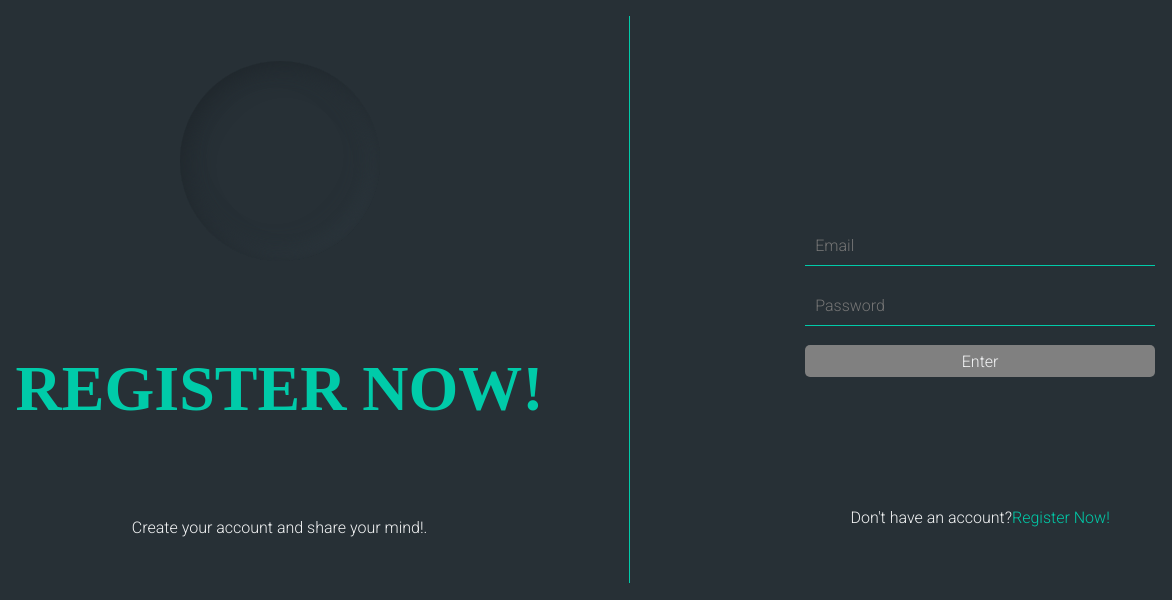
Test: <Login/> - Integration - fetch user › should try to login with incorrect values
Type "test@gmail.com" into the field with placeholder "Email" at (980, 246), box [805,226,1155,266]
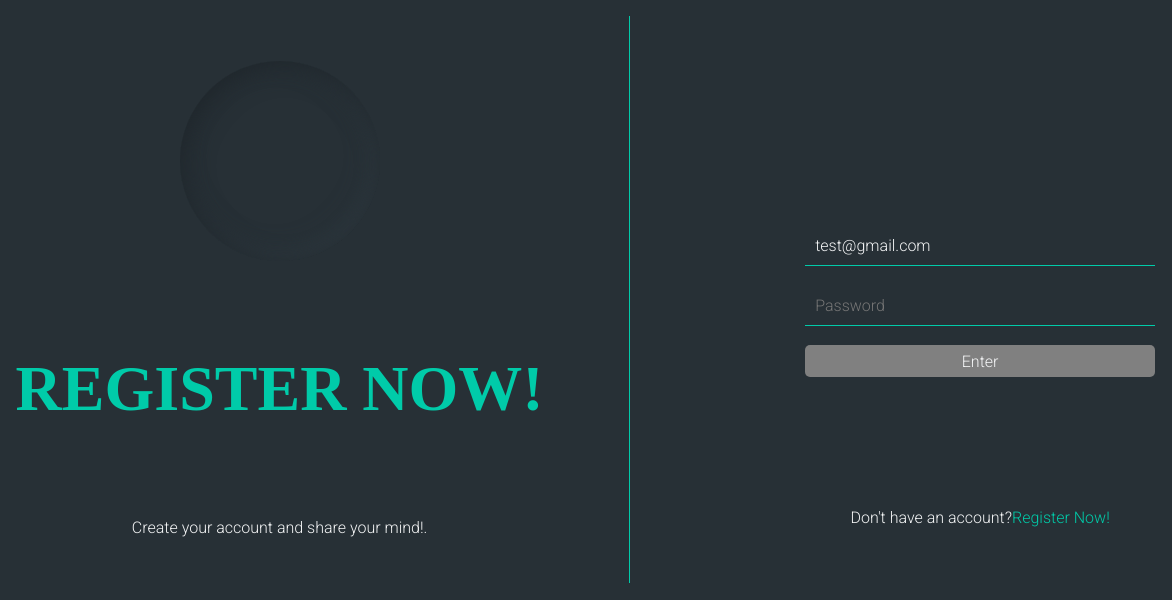
Type "test" into the password field with placeholder "Password" at (980, 306), box [805,286,1155,326]
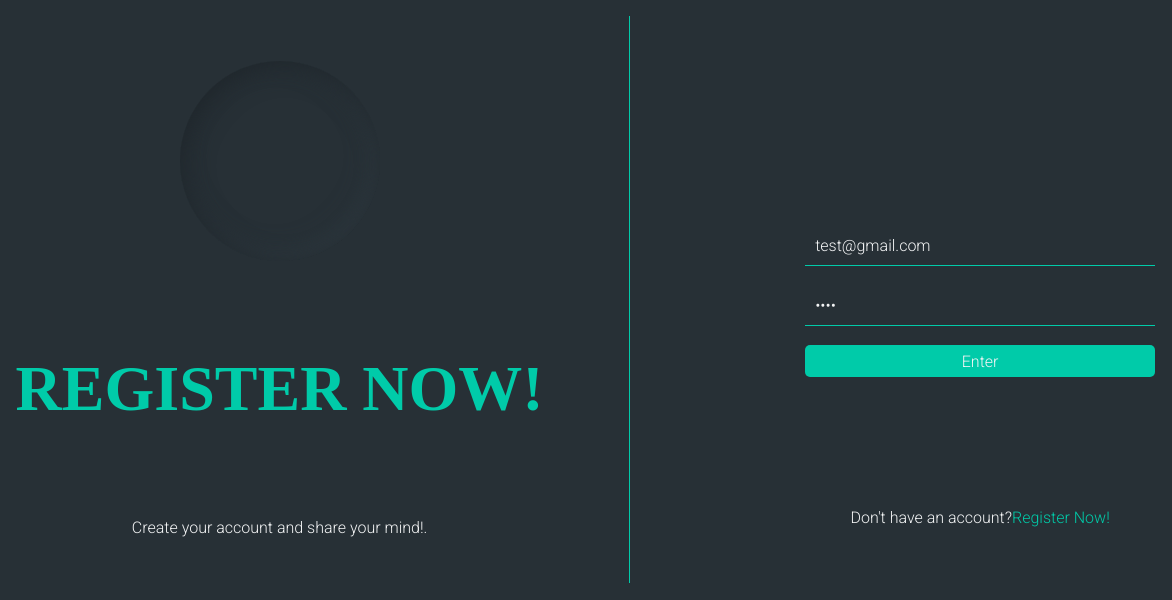
Click the button "Enter" at (980, 361), box [805,345,1155,377]
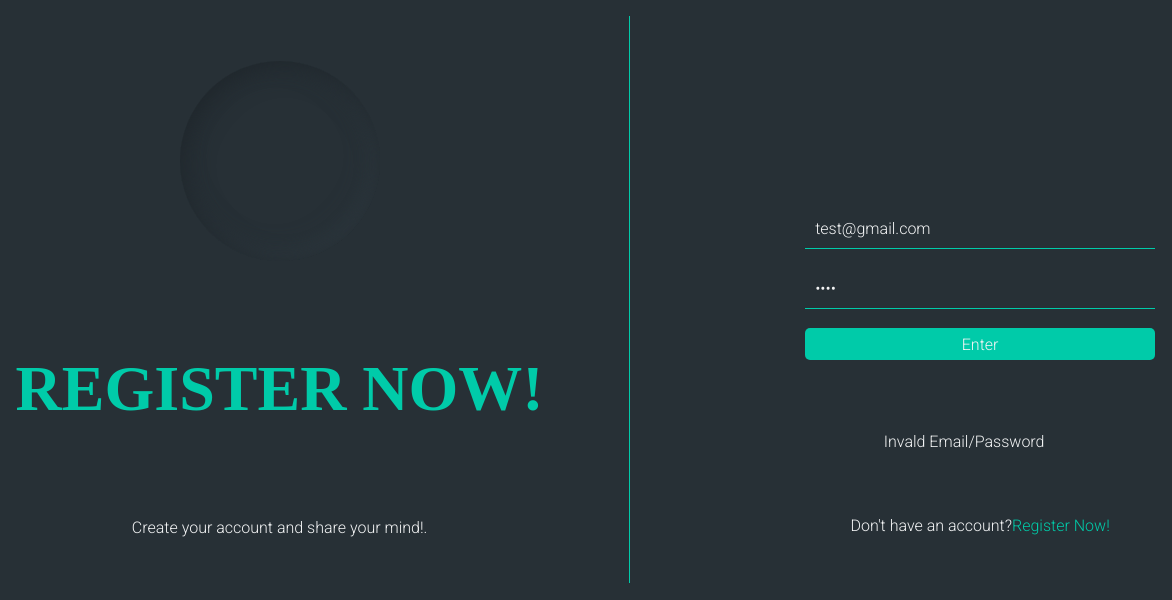
Expected: the text "Invald Email/Password" is shown, [884,432,1045,451]
